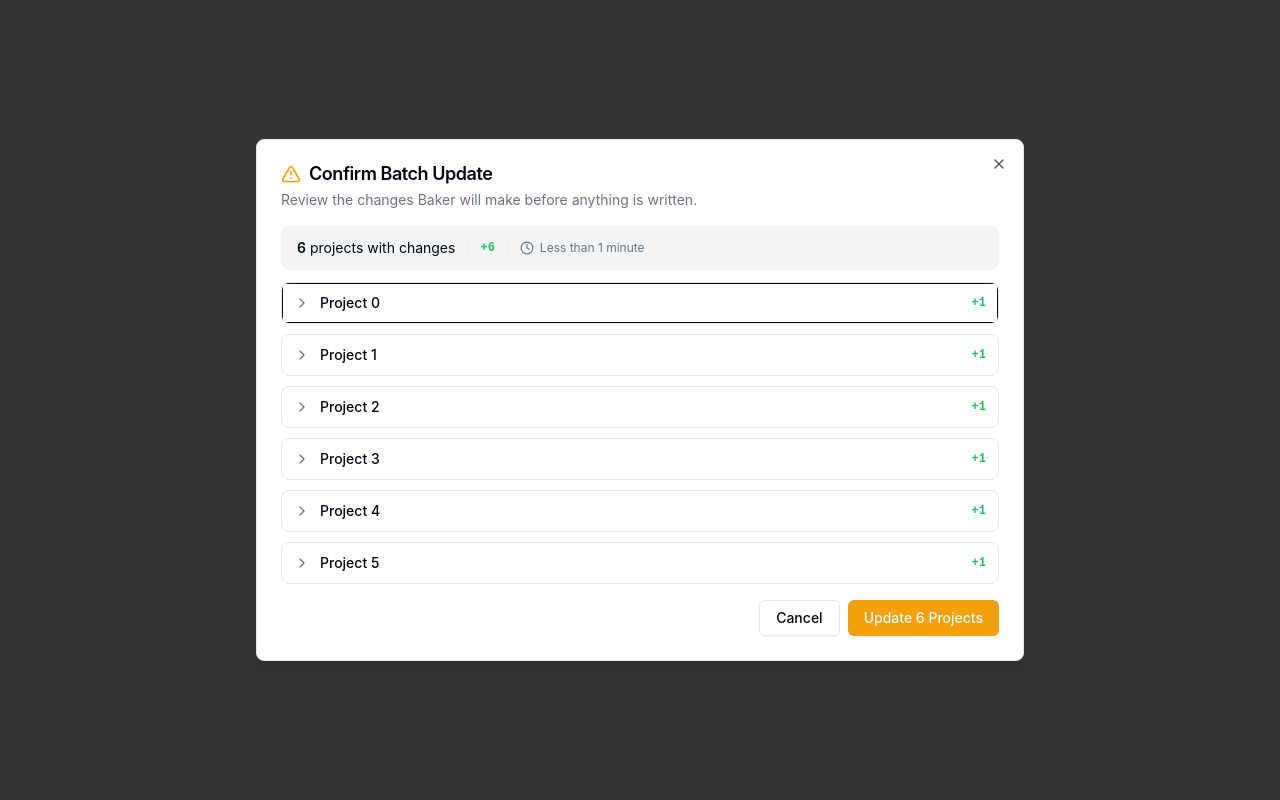
Test: BatchUpdateConfirmationDialog › collapses to headers with counts for large batches
expect the text "Footage/Camera 1/clip0.mp4" is not shown: met
Click the text "Project 0": (350, 302) [320,294,380,311]
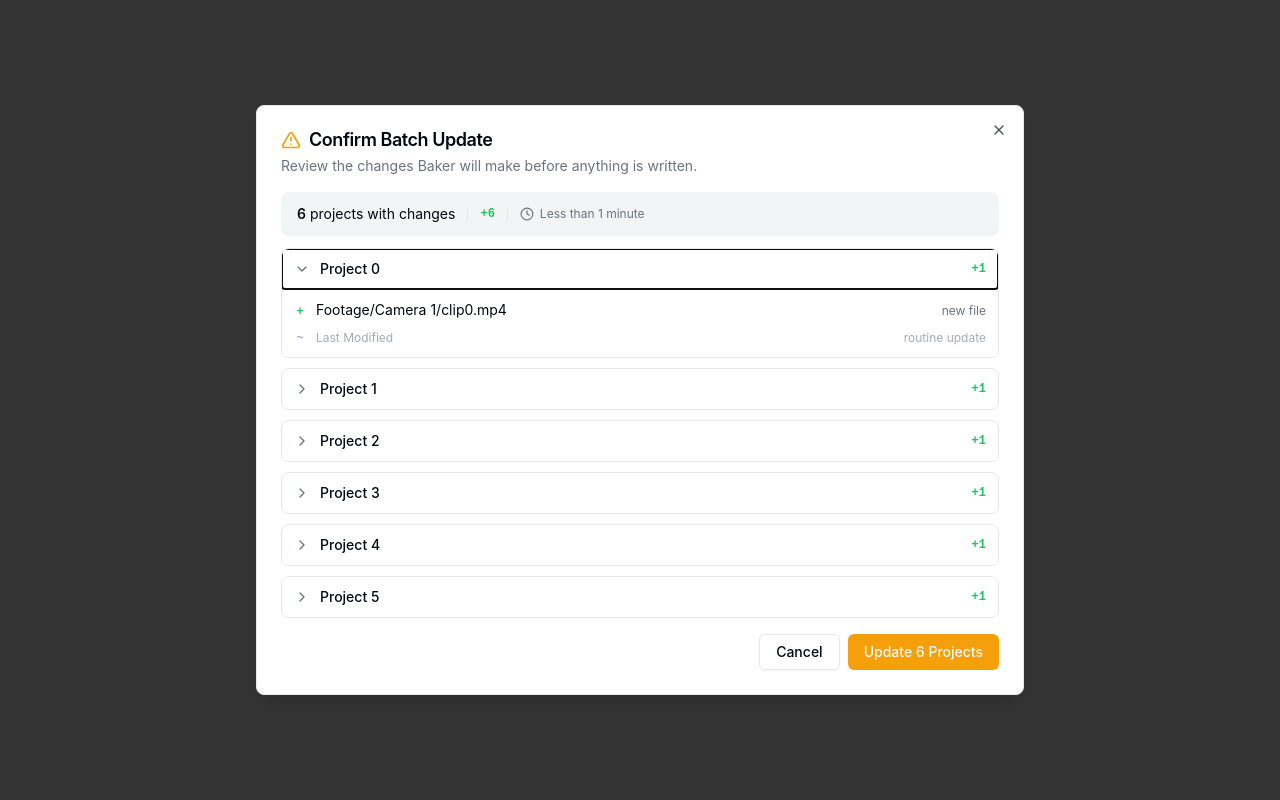
expect the text "Footage/Camera 1/clip0.mp4" is shown: met, box [316,301,507,318]
